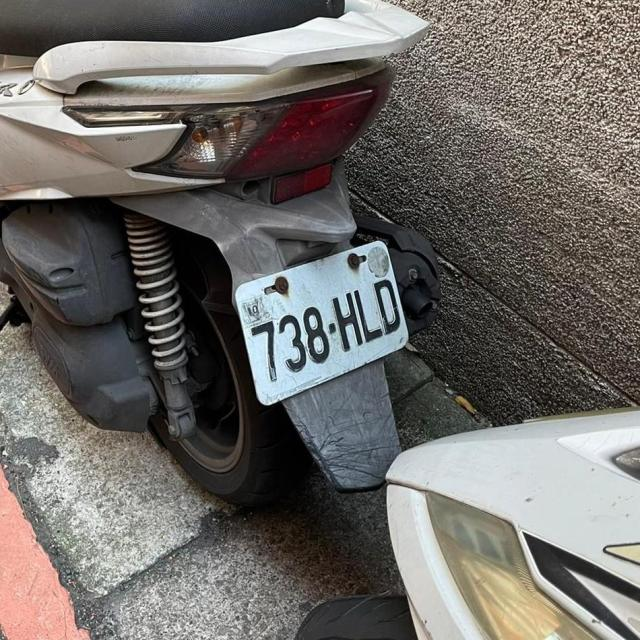W: (226, 231, 418, 410)
